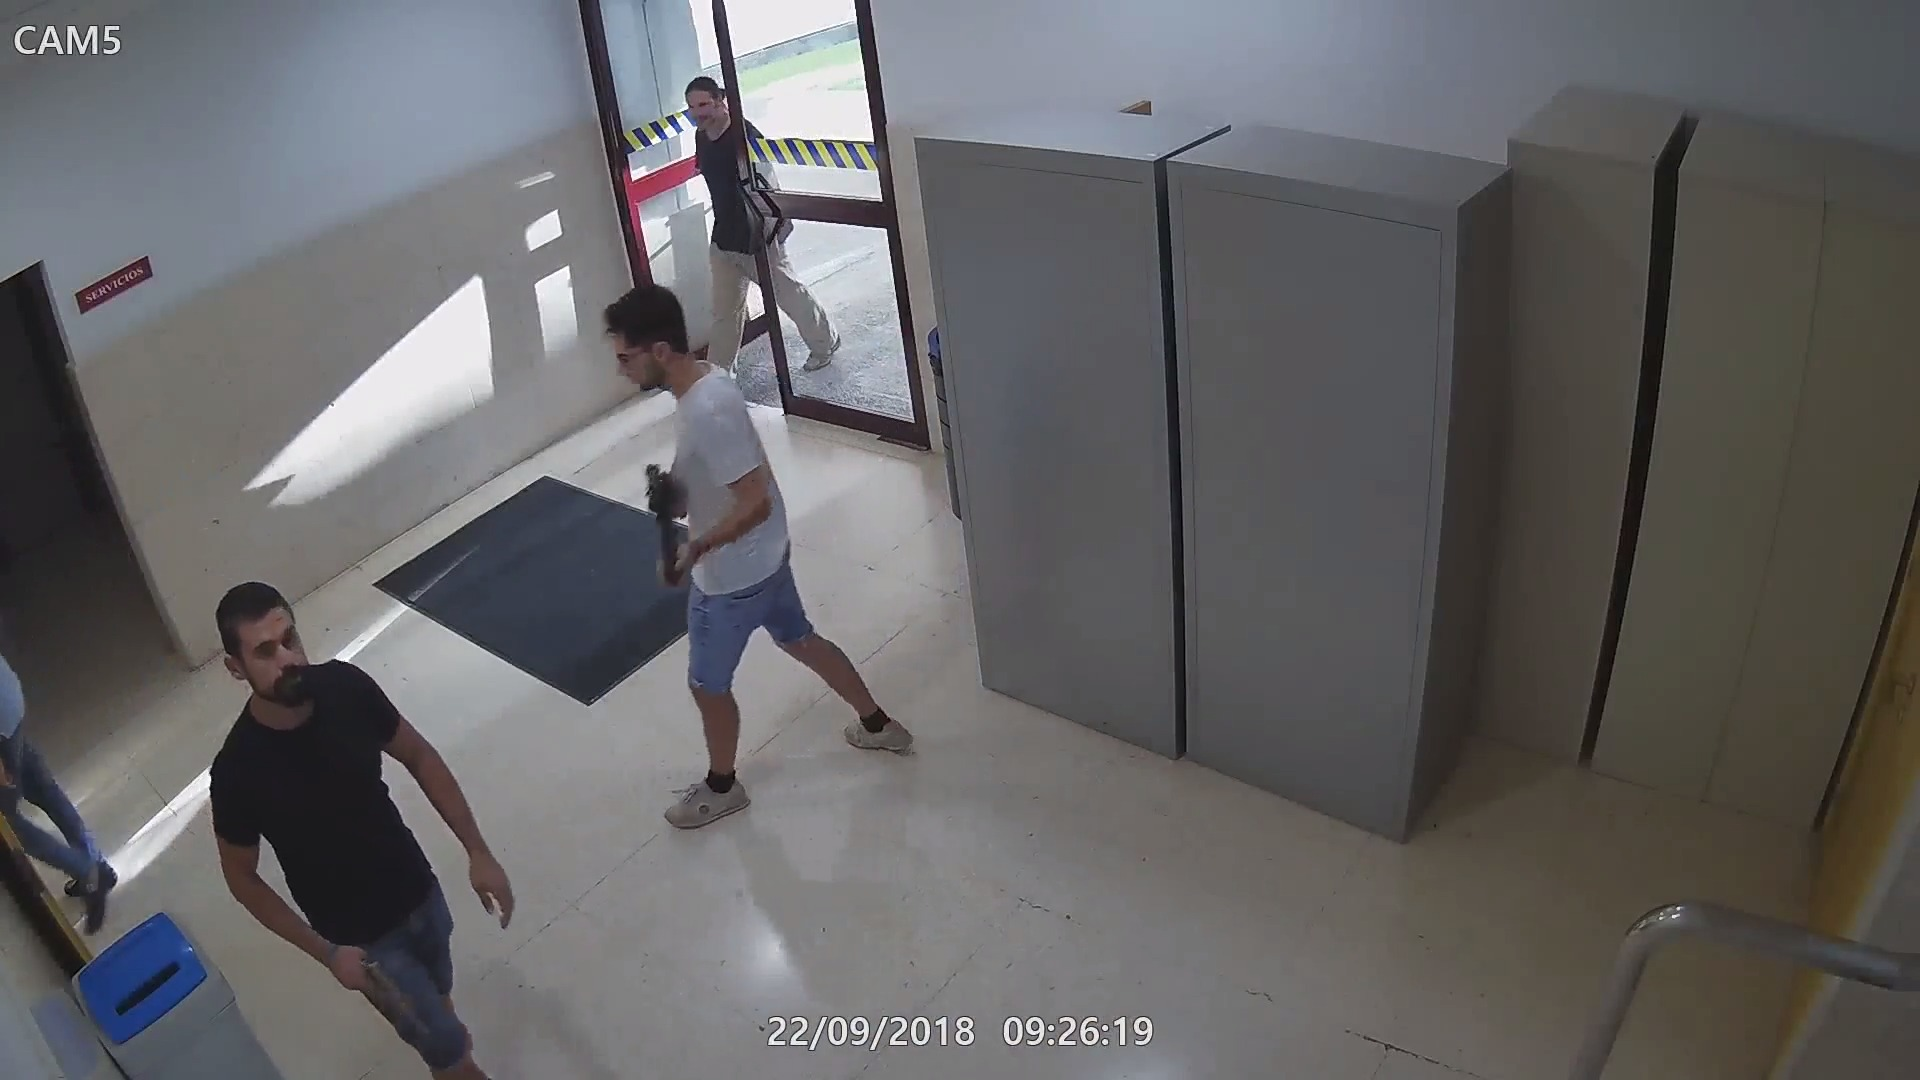Handgun: (328, 942, 433, 1048)
Short_rifle: (641, 460, 692, 593)
